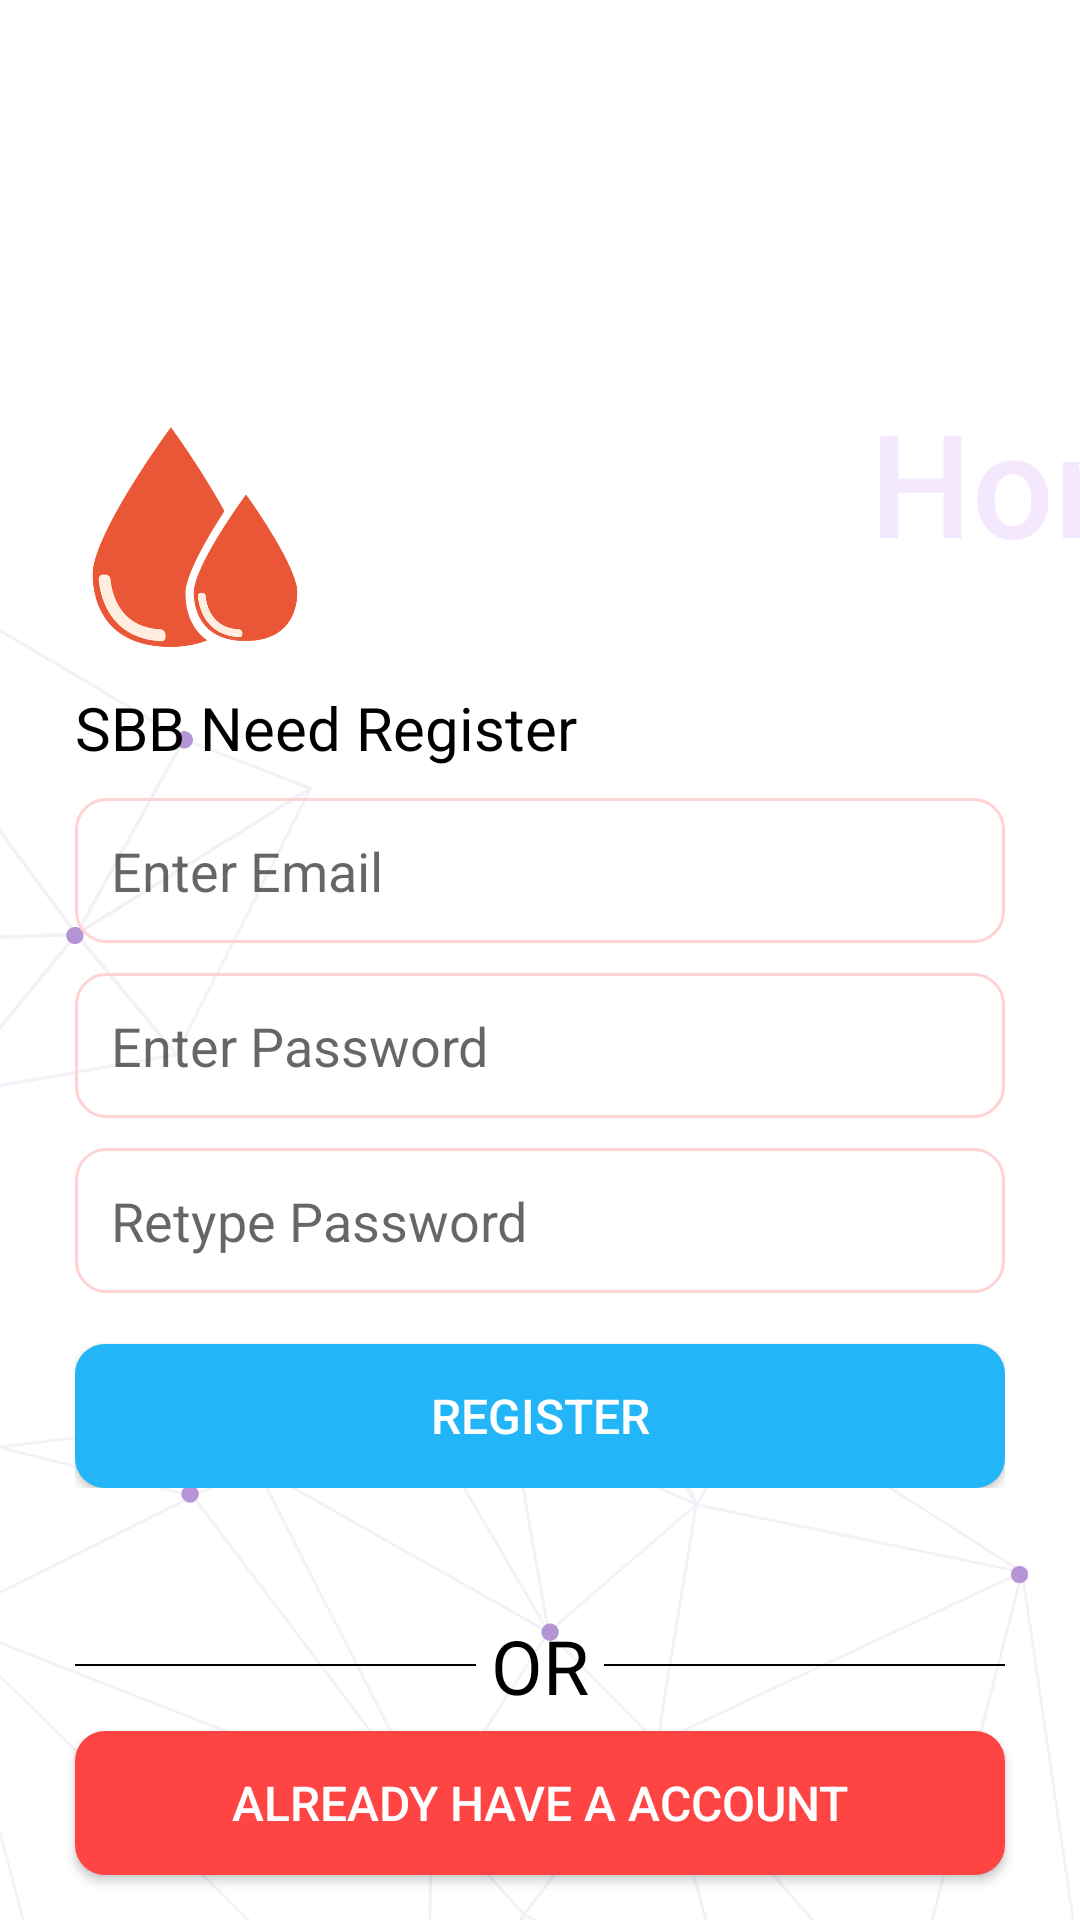

Screen size 1080*1920. Icon name, then its box in pixels as (x1, y1, x2, y2):
bloodpng: (92, 427, 298, 647)
